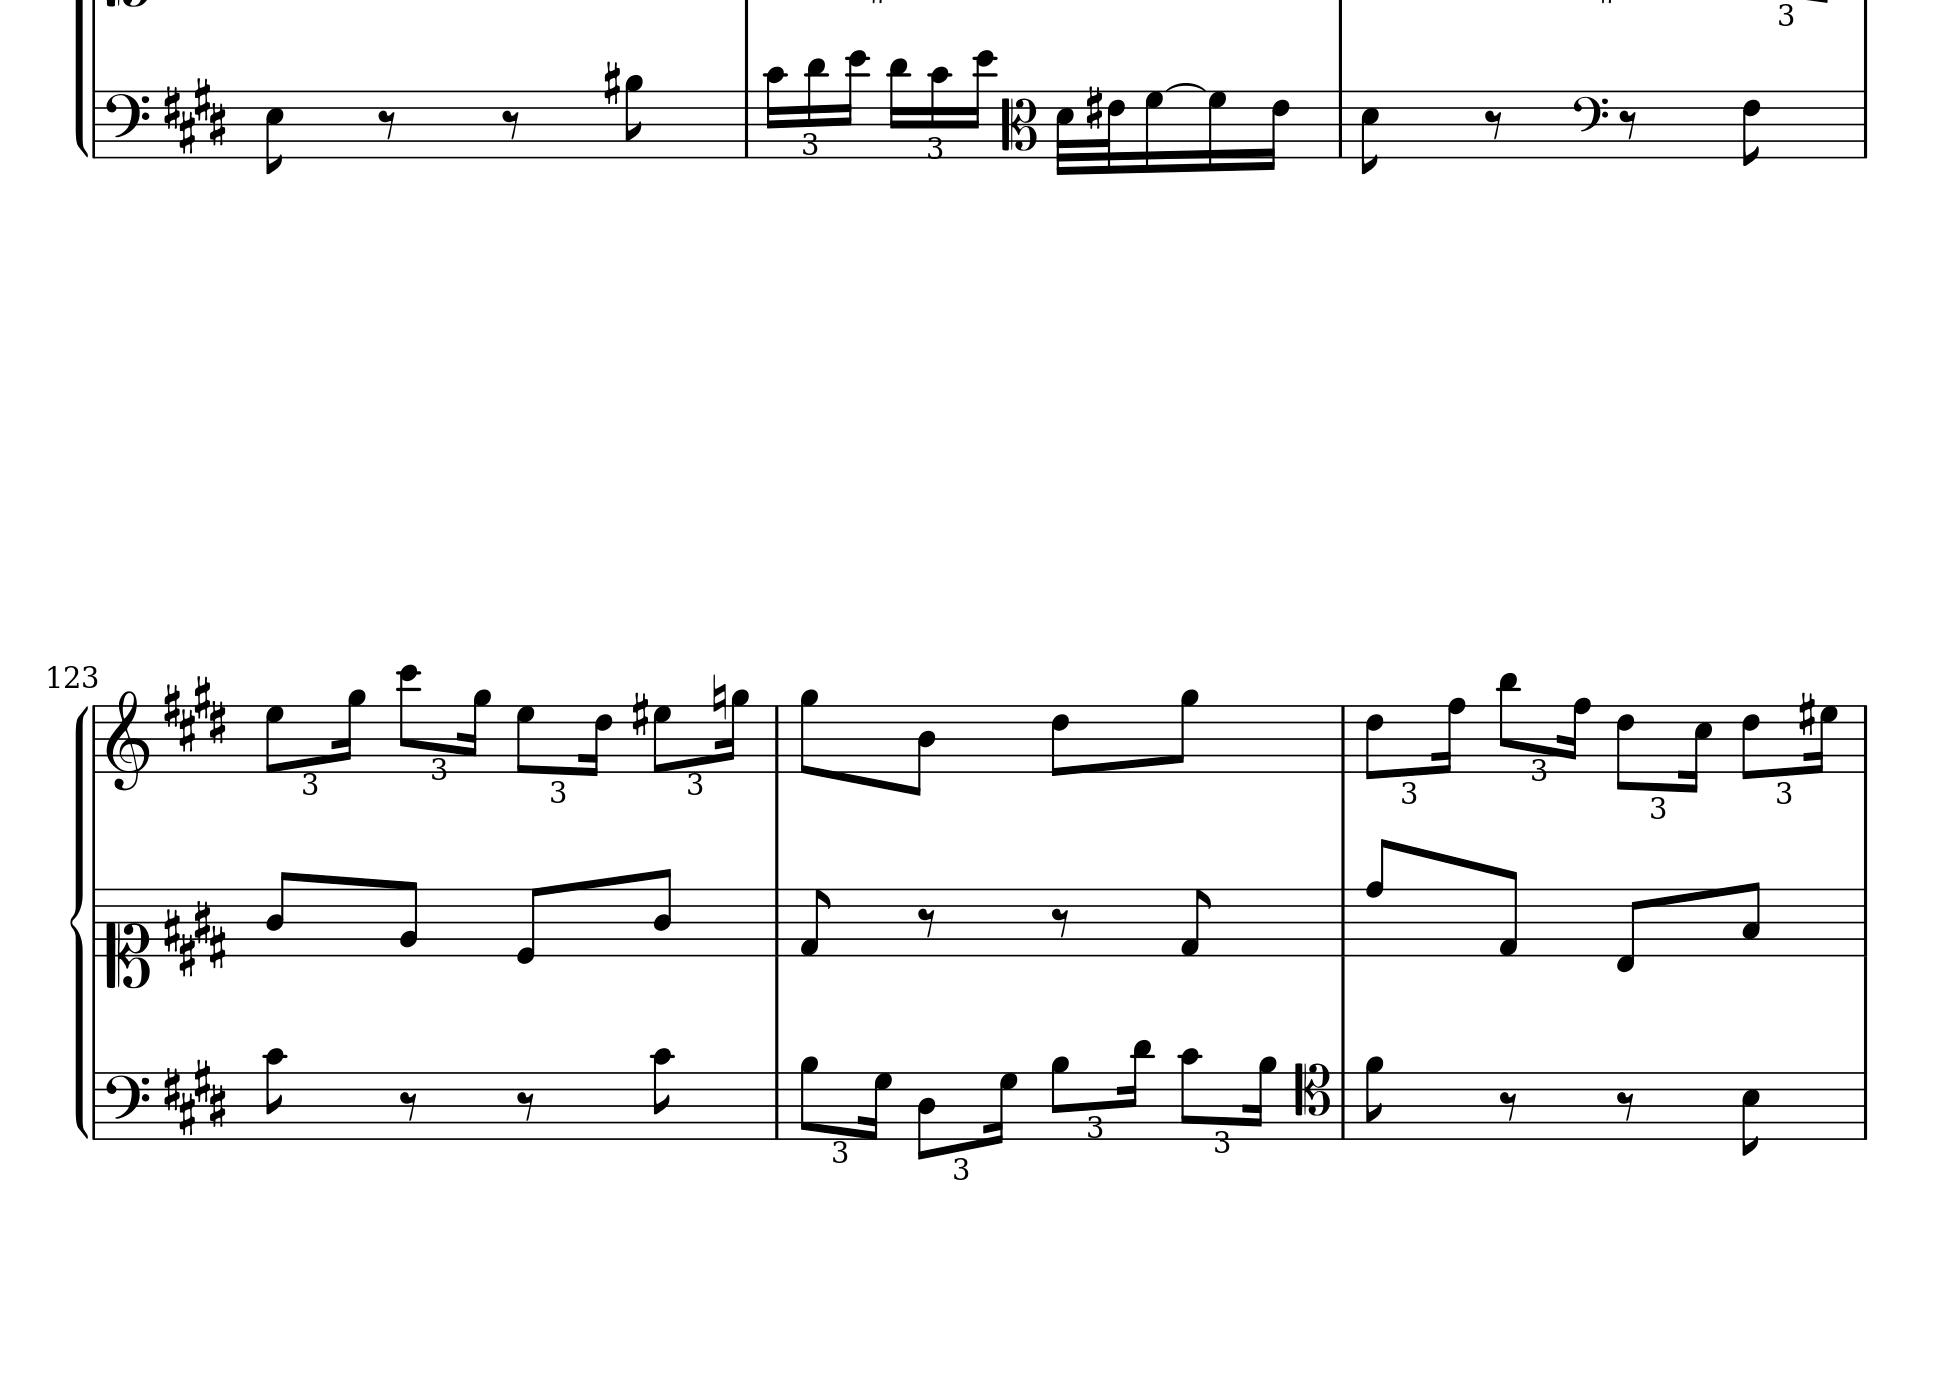1: (46, 663, 60, 690)
16_10: (927, 64, 952, 160), (762, 64, 787, 159)
16_11: (1119, 1038, 1155, 1140), (802, 55, 826, 160), (886, 55, 910, 159)
16_12: (838, 49, 870, 159), (966, 49, 997, 159)
16_5: (1680, 703, 1713, 793)
16_6: (580, 702, 613, 778), (1263, 88, 1291, 172)
16_7: (985, 1069, 1018, 1146), (859, 1069, 894, 1141), (1809, 702, 1839, 775), (1143, 87, 1164, 175), (1206, 85, 1227, 172)
16_8: (1434, 696, 1467, 774), (1560, 694, 1593, 772)
16_9: (333, 685, 366, 772), (1245, 1053, 1278, 1140), (459, 685, 490, 772), (718, 687, 750, 774)
2: (61, 664, 79, 690)
3: (949, 1155, 972, 1182), (1647, 795, 1668, 820), (1776, 1, 1795, 28), (829, 1138, 849, 1165), (547, 778, 567, 804), (799, 130, 817, 157), (81, 663, 99, 690), (300, 772, 319, 796), (685, 772, 705, 796), (1774, 781, 1794, 805), (1212, 1129, 1231, 1153), (925, 135, 943, 160), (1401, 780, 1419, 805), (1086, 1114, 1104, 1140), (430, 757, 448, 781), (1530, 759, 1548, 781)
32_5: (1053, 88, 1077, 175)
32_6: (1101, 88, 1126, 174)
8_-1: (1614, 886, 1644, 973)
8_0: (514, 883, 546, 964)
8_1: (798, 886, 832, 958), (1179, 886, 1213, 958), (1497, 865, 1521, 958)
8_10: (649, 1045, 675, 1141), (262, 1045, 286, 1141), (1179, 1045, 1203, 1140)
8_11: (1497, 669, 1522, 774)
8_12: (396, 661, 421, 772)
8_2: (397, 879, 420, 958)
8_3: (1740, 880, 1764, 958)
8_4: (906, 703, 937, 798), (265, 868, 295, 957), (651, 865, 673, 958), (916, 1069, 937, 1161)
8_5: (264, 88, 285, 175), (1360, 88, 1381, 175), (1740, 1069, 1761, 1156)
8_6: (1615, 703, 1636, 793), (1050, 702, 1074, 778), (1740, 702, 1762, 781), (1741, 88, 1762, 169), (1365, 702, 1386, 781)
8_7: (264, 703, 286, 774), (651, 703, 673, 774), (514, 703, 535, 774)
8_8: (1365, 835, 1396, 958)
8_9: (1170, 687, 1200, 774), (798, 687, 820, 775), (622, 73, 643, 160), (1363, 1054, 1384, 1141), (798, 1054, 819, 1140), (1050, 1054, 1071, 1140)
Brace: (67, 706, 87, 1141)
Cclef: (1000, 88, 1038, 157)
E_S: (160, 898, 228, 978), (160, 73, 226, 154), (162, 1056, 228, 1135), (163, 673, 226, 751)
Fclef: (103, 88, 150, 159), (103, 1069, 150, 1140), (1572, 88, 1608, 159)
Gclef: (105, 688, 150, 790)
Natural: (709, 672, 727, 721)
Rests8: (1482, 106, 1506, 139), (1617, 106, 1641, 139), (1497, 1089, 1521, 1120), (915, 904, 937, 937), (1050, 904, 1072, 937), (397, 1087, 420, 1120), (1615, 1087, 1638, 1120), (499, 108, 522, 139), (376, 106, 397, 139), (514, 1087, 535, 1120)
Sharp: (628, 688, 649, 738), (1797, 688, 1818, 736), (601, 58, 621, 106), (1086, 84, 1104, 130)
Single_barline: (736, 90, 756, 157), (1332, 90, 1350, 157), (1335, 705, 1353, 772), (1335, 888, 1353, 955), (768, 1071, 786, 1138), (1855, 889, 1873, 955), (1855, 1072, 1873, 1138), (87, 705, 103, 772), (1335, 1071, 1351, 1138), (1857, 91, 1873, 157), (768, 889, 784, 955), (1858, 703, 1873, 772), (769, 705, 784, 772), (88, 889, 103, 957), (88, 90, 102, 157), (88, 1072, 102, 1138)
Slur: (1165, 81, 1207, 91)
Soprano_Cclef: (103, 885, 151, 988)
Tensor_Cclef: (1293, 1060, 1332, 1140)
